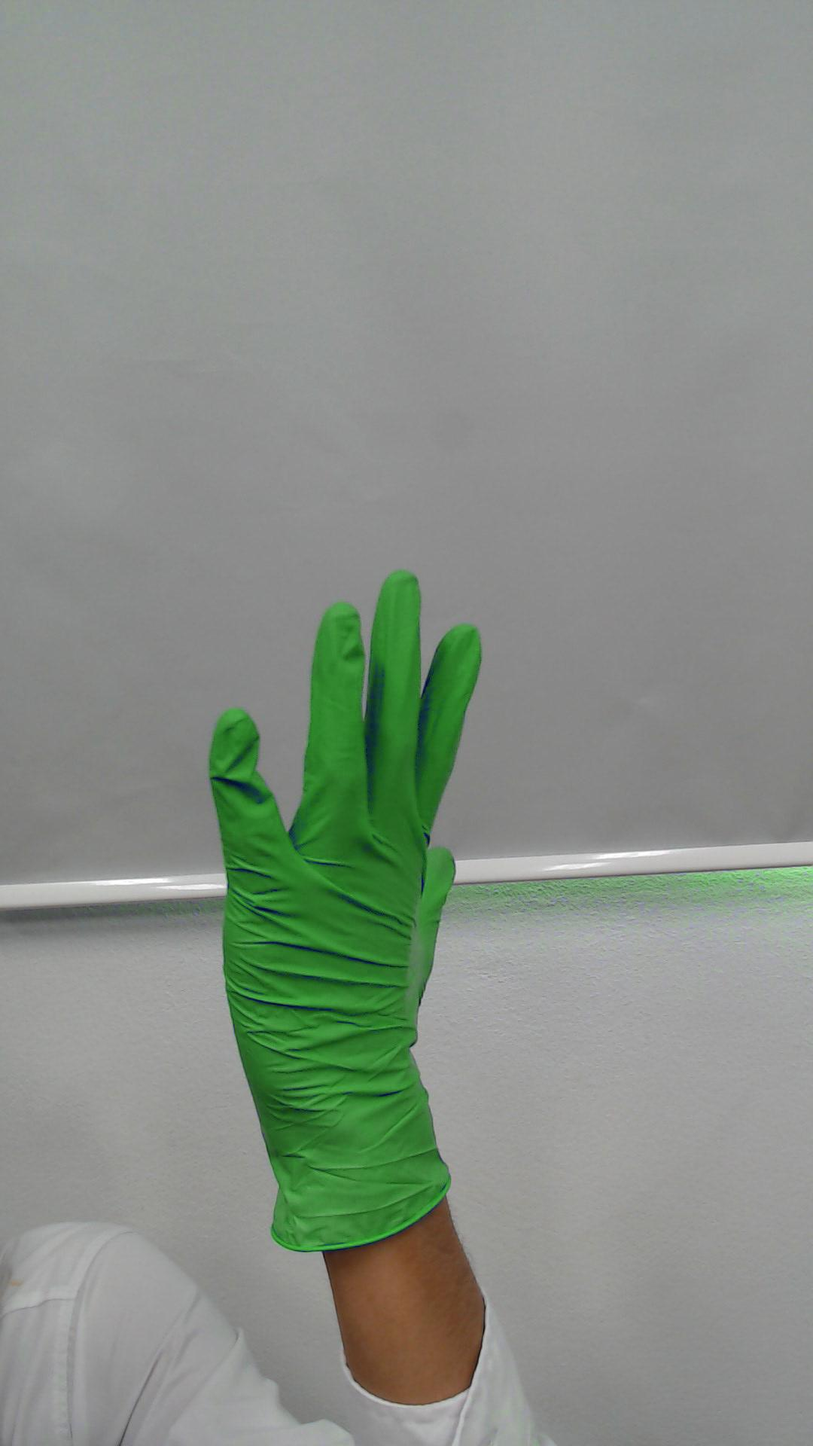gloves: (201, 557, 497, 1077)
